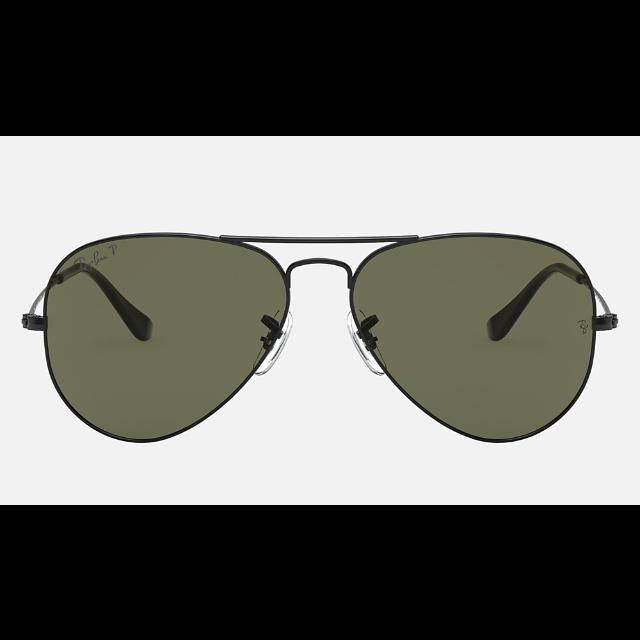Sunglasses: (34, 232, 616, 442)
